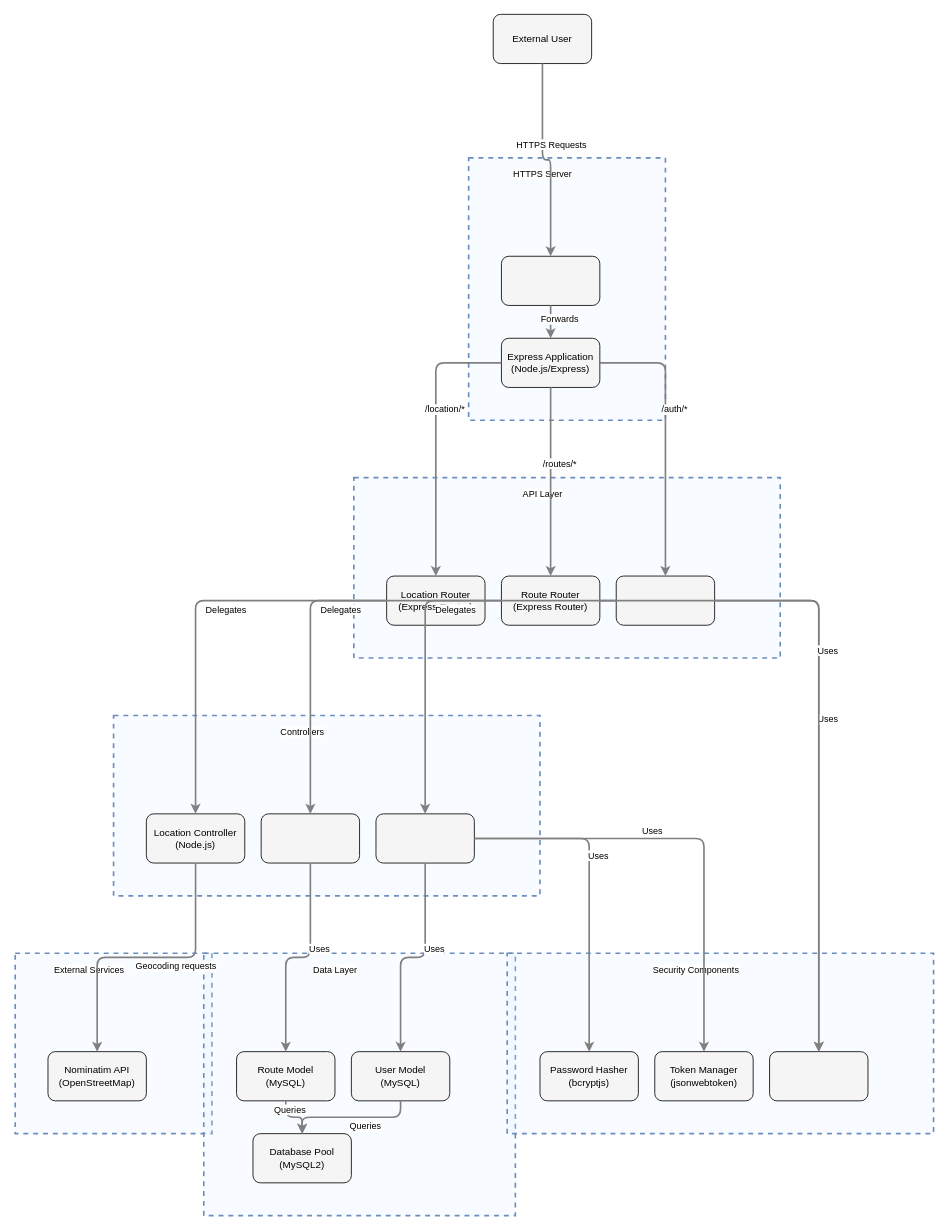
This 948x1231 diagram has some shape labels left out. The centre of each missing label's shape, as x and y in pixels:
Auth Controller (Node.js): the point at 424,838
Auth Middleware (JWT): the point at 818,1076
Auth Router (Express Router): the point at 665,600
HTTPS Server (Node.js HTTPS): the point at 550,280
Route Controller (Node.js): the point at 310,838
